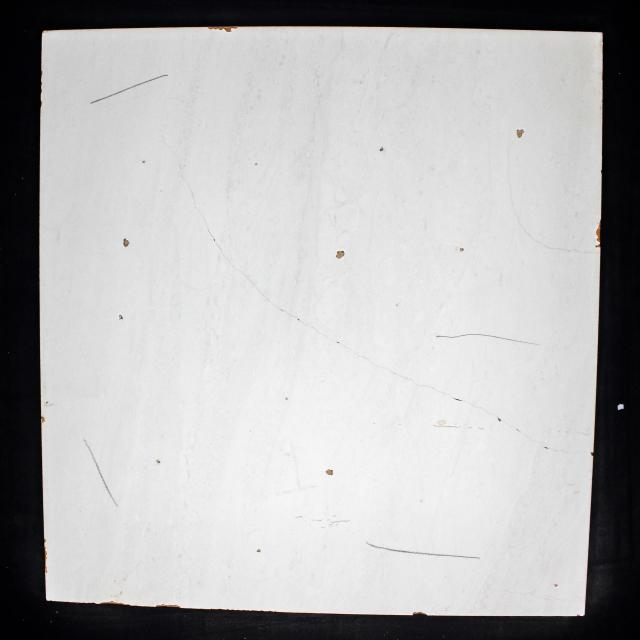edge-chipping: (595, 220, 601, 242), (100, 600, 125, 605), (412, 611, 427, 616), (155, 604, 169, 608), (169, 604, 181, 608), (41, 416, 46, 424), (44, 550, 48, 559), (594, 244, 600, 248), (40, 100, 43, 108), (45, 566, 48, 573), (590, 452, 594, 456), (44, 538, 46, 544), (44, 559, 46, 565), (576, 614, 581, 616), (44, 546, 46, 550)
hole: (335, 250, 345, 259), (516, 128, 525, 138), (123, 238, 130, 247), (326, 469, 334, 476), (118, 314, 124, 321), (459, 247, 465, 252), (379, 146, 384, 152), (553, 583, 559, 588), (256, 548, 261, 553), (497, 417, 502, 422), (156, 459, 160, 464), (142, 160, 146, 164), (255, 162, 258, 166), (285, 397, 288, 400)
line: (366, 541, 480, 559), (451, 396, 496, 417), (402, 376, 449, 395), (358, 356, 401, 376), (503, 421, 540, 443), (90, 88, 129, 105), (100, 472, 118, 508), (488, 334, 540, 346), (267, 298, 298, 318), (129, 74, 169, 89), (83, 438, 99, 472), (301, 322, 332, 339), (246, 276, 266, 298), (224, 256, 245, 276), (199, 210, 214, 238), (435, 331, 487, 339), (333, 340, 357, 355), (176, 158, 188, 186), (524, 229, 540, 243), (189, 187, 198, 210), (508, 178, 514, 210), (514, 211, 524, 229), (561, 249, 594, 254), (540, 243, 560, 250), (215, 242, 224, 256), (508, 158, 510, 176)
